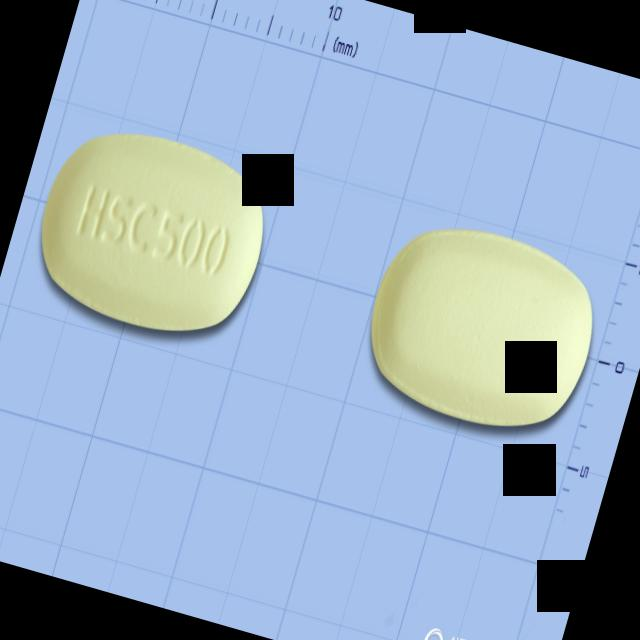Clithro: (20, 110, 285, 354)
